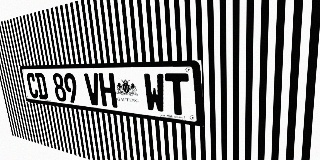8: (52, 73, 67, 102)
9: (63, 73, 79, 103)
C: (26, 73, 39, 99)
D: (35, 73, 49, 100)
H: (98, 73, 118, 108)
T: (165, 73, 190, 116)
V: (84, 73, 102, 106)
W: (143, 73, 166, 114)
